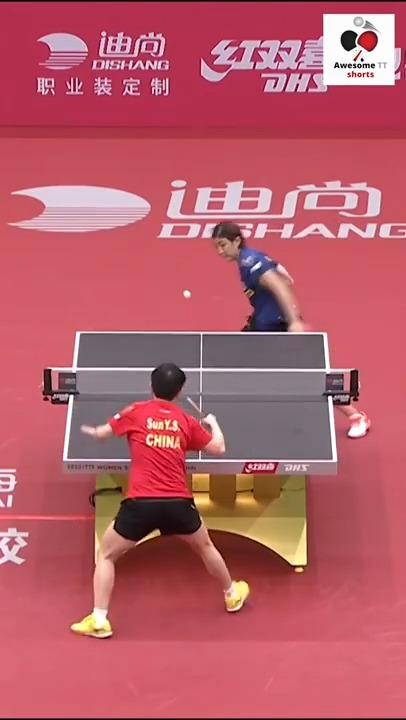Ball: (181, 287, 193, 300)
